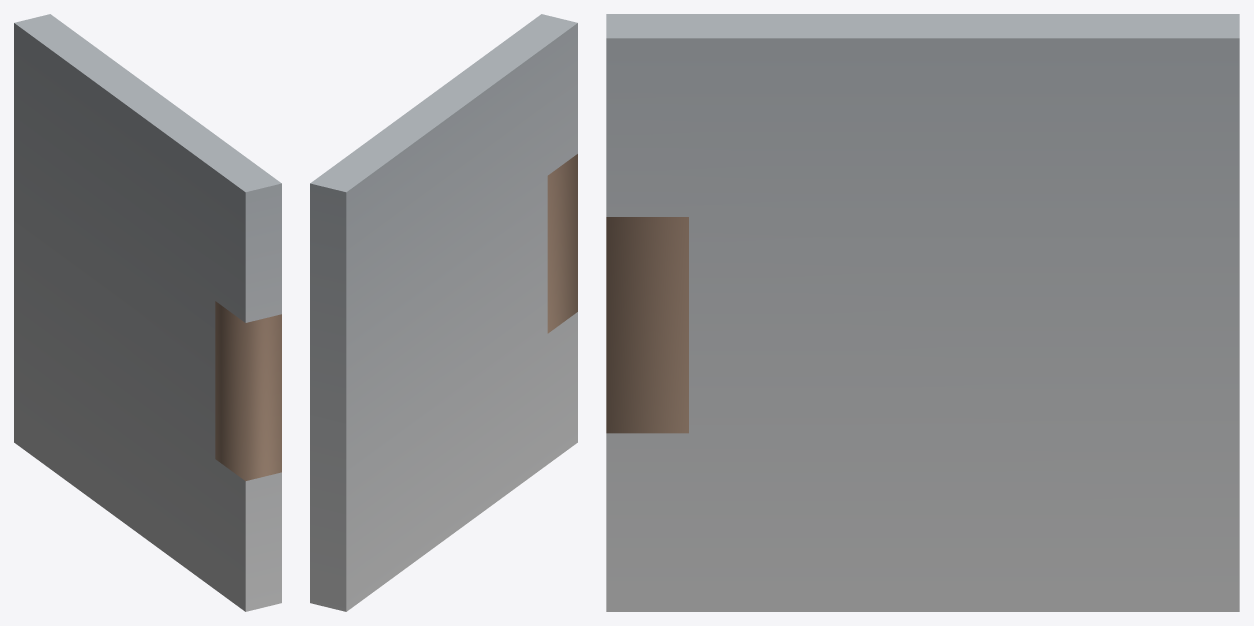
File: (%no-merge) (%open-left) (%reverse) (%wide) 7.glb
3 views of the same model, side by side, from view 1: azimuth 30°, elevation 25°; view 2: azimuth 150°, elevation 25°; view 3: azimuth 270°, elevation 25° (orthographic). The views are drawn at different scales.
Visible parts, largest first — view 1: (%no-merge) (%open-left) (%reverse) (%wide) 7; view 2: (%no-merge) (%open-left) (%reverse) (%wide) 7; view 3: (%no-merge) (%open-left) (%reverse) (%wide) 7.
Part boxes in pixels (<box>): (%no-merge) (%open-left) (%reverse) (%wide) 7: <box>14,14,281,611</box>; (%no-merge) (%open-left) (%reverse) (%wide) 7: <box>310,14,577,611</box>; (%no-merge) (%open-left) (%reverse) (%wide) 7: <box>606,14,1239,611</box>.
Size of the model in its own units: 0.0265 by 0.2925 by 0.2925.
